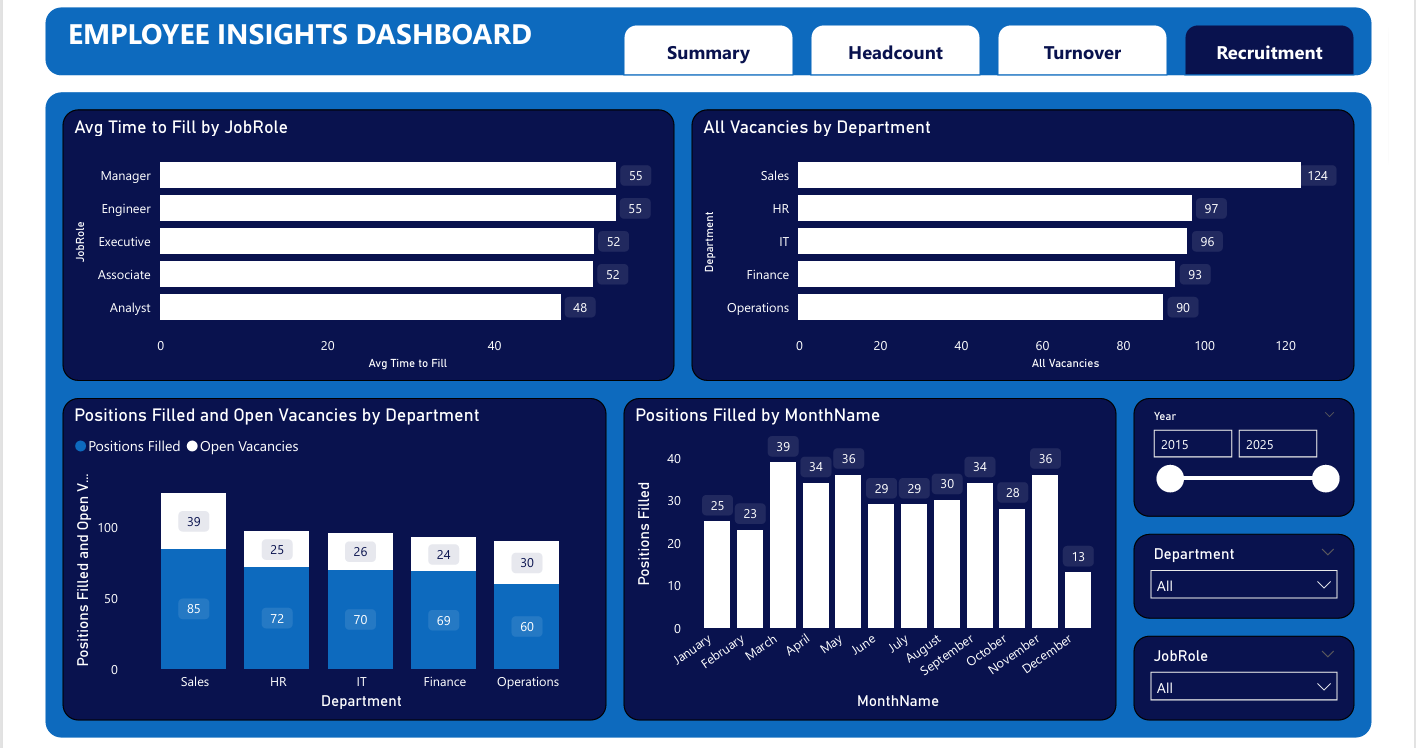

Layout of this report page (visuals, bound fields, positions):
{"tool":"powerbi","page":{"name":"Recruitment","canvas":[1280,720],"ordinal":3},"visuals":[{"type":"shape","box":[16,16,1248,64],"z":0,"group":"g1"},{"type":"shape","box":[16,96,1248,608],"z":0},{"type":"group","id":"g1","title":"Group 1","box":[16,16,1248,64],"z":1000},{"type":"textbox","box":[32,16,512,64],"z":1000,"group":"g1"},{"type":"shape","box":[560,32,160,48],"z":2000,"group":"g1"},{"type":"clusteredBarChart","fields":{"Category":["Recruitment.Department"],"Y":["Employee_Master.All Vacancies"]},"box":[624,112,624,256],"z":2000},{"type":"shape","box":[736,32,160,48],"z":3000,"group":"g1"},{"type":"columnChart","fields":{"Category":["Recruitment.Department"],"Y":["Employee_Master.Positions Filled","Recruitment.Open Vacancies"]},"box":[32,384,512,304],"z":3000},{"type":"shape","box":[912,32,160,48],"z":4000,"group":"g1"},{"type":"barChart","fields":{"Category":["Recruitment.JobRole"],"Y":["Employee_Master.Avg Time to Fill"]},"box":[32,112,576,256],"z":4000},{"type":"shape","box":[1088,32,160,48],"z":5000,"group":"g1"},{"type":"columnChart","fields":{"Category":["Date_Dim.MonthName"],"Y":["Employee_Master.Positions Filled"]},"box":[560,384,464,304],"z":5000},{"type":"slicer","fields":{"Values":["Recruitment.Department"]},"box":[1040,512,208,80],"z":6000},{"type":"slicer","fields":{"Values":["Recruitment.JobRole"]},"box":[1040,608,208,80],"z":7000},{"type":"slicer","fields":{"Values":["Date_Dim.Year"]},"box":[1040,384,208,112],"z":10000}]}

Visuals, with their boxes on the page's 1280x720 design canvas (x1, y1, x2, y2). These are canvas units, not pixel positions in the 1416x748 screenshot, which may show the page scaled, cropped or inside an application window:
shape: x1=16, y1=16, x2=1264, y2=80
shape: x1=16, y1=96, x2=1264, y2=704
"Group 1" group: x1=16, y1=16, x2=1264, y2=80
textbox: x1=32, y1=16, x2=544, y2=80
shape: x1=560, y1=32, x2=720, y2=80
clusteredBarChart - Recruitment.Department x Employee_Master.All Vacancies: x1=624, y1=112, x2=1248, y2=368
shape: x1=736, y1=32, x2=896, y2=80
columnChart - Recruitment.Department x Employee_Master.Positions Filled: x1=32, y1=384, x2=544, y2=688
shape: x1=912, y1=32, x2=1072, y2=80
barChart - Recruitment.JobRole x Employee_Master.Avg Time to Fill: x1=32, y1=112, x2=608, y2=368
shape: x1=1088, y1=32, x2=1248, y2=80
columnChart - Date_Dim.MonthName x Employee_Master.Positions Filled: x1=560, y1=384, x2=1024, y2=688
slicer - Recruitment.Department: x1=1040, y1=512, x2=1248, y2=592
slicer - Recruitment.JobRole: x1=1040, y1=608, x2=1248, y2=688
slicer - Date_Dim.Year: x1=1040, y1=384, x2=1248, y2=496
